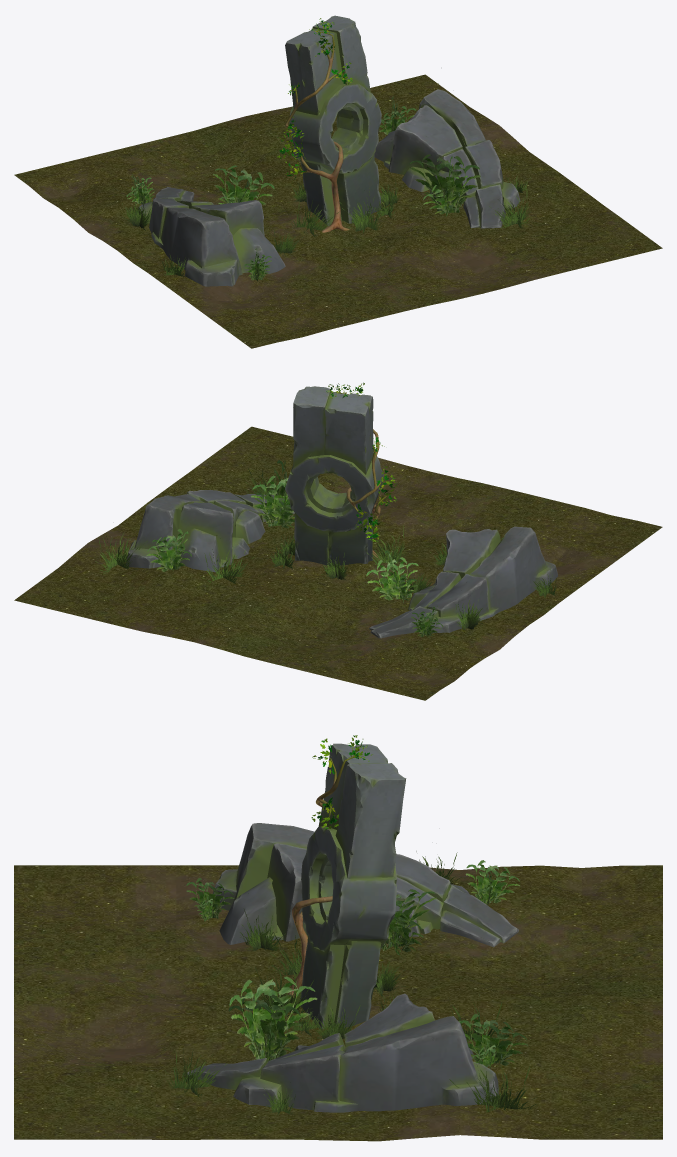
Rendered from ancient-ruins.glb.
3 views of the same model, one above another, from view 1: azimuth 30°, elevation 25°; view 2: azimuth 150°, elevation 25°; view 3: azimuth 270°, elevation 25° (orthographic). The views are drawn at different scales.
Visible parts, largest first — view 1: Ground, Stone_Sculpture, Stones_1, Stones_2, TreeLOWPOLY, Plant.002, Plant.004, Plane.010, Plane.008, Plane.002, Plant.001, Plant.003; view 2: Ground, Stone_Sculpture, Stones_2, Stones_1, TreeLOWPOLY, Plant.002, Plant.004, Plant.001, Plane.013, Plane.014, Plane.002, Plant.003; view 3: Ground, Stone_Sculpture, Stones_1, Stones_2, Plant.002, TreeLOWPOLY, Plant.001, Plant.004, Plant.003, Plane.013, Plant, Plane.010 (+2 smaller).
Boxes of the visible parts, x1,y1,x2,y2 form: Ground: [14, 74, 662, 348]; Stone_Sculpture: [285, 15, 381, 225]; Stones_1: [374, 89, 520, 228]; Stones_2: [138, 187, 285, 286]; TreeLOWPOLY: [277, 18, 352, 232]; Plant.002: [409, 154, 480, 216]; Plant.004: [212, 165, 274, 204]; Plane.010: [489, 187, 530, 228]; Plane.008: [340, 188, 383, 233]; Plane.002: [289, 197, 339, 238]; Plant.001: [379, 96, 416, 134]; Plant.003: [126, 174, 154, 204]; Ground: [14, 426, 662, 700]; Stone_Sculpture: [285, 386, 383, 566]; Stones_2: [369, 526, 557, 638]; Stones_1: [126, 490, 294, 572]; TreeLOWPOLY: [326, 382, 397, 560]; Plant.002: [250, 460, 294, 528]; Plant.004: [366, 550, 418, 603]; Plant.001: [146, 529, 191, 573]; Plane.013: [95, 532, 147, 574]; Plane.014: [201, 535, 253, 586]; Plane.002: [366, 525, 409, 564]; Plant.003: [411, 606, 443, 638]; Ground: [14, 865, 662, 1141]; Stone_Sculpture: [300, 743, 406, 1029]; Stones_1: [187, 993, 498, 1112]; Stones_2: [211, 823, 518, 947]; Plant.002: [228, 976, 317, 1061]; TreeLOWPOLY: [288, 735, 372, 1000]; Plant.001: [459, 1013, 528, 1068]; Plant.004: [381, 889, 436, 956]; Plant.003: [465, 860, 520, 905]; Plane.013: [449, 1058, 537, 1113]; Plant: [186, 878, 234, 921]; Plane.010: [165, 1048, 227, 1097].
Bounding box in the file's own units: 26.43 × 13.57 × 26.43.
Materials: 7 (7 with a texture image).
